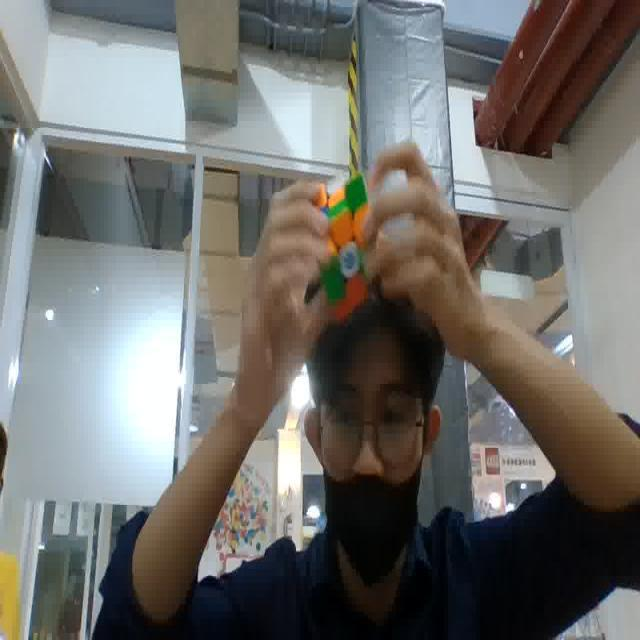Rub: (293, 169, 390, 312)
